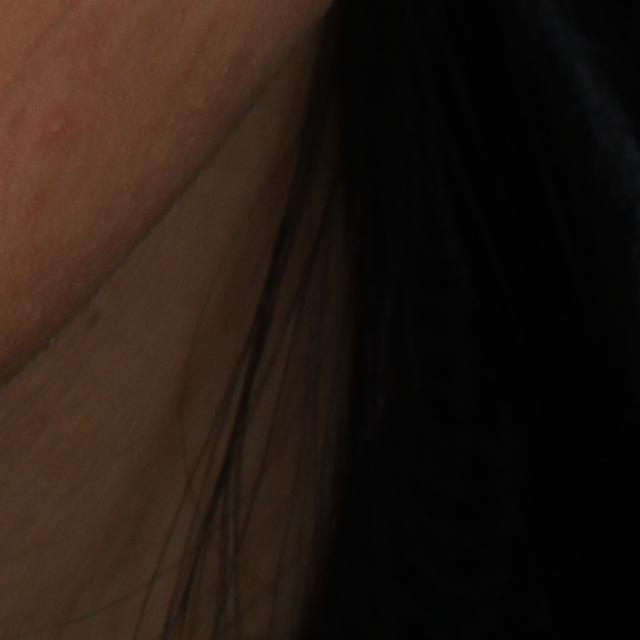papule: (42, 106, 73, 141)
